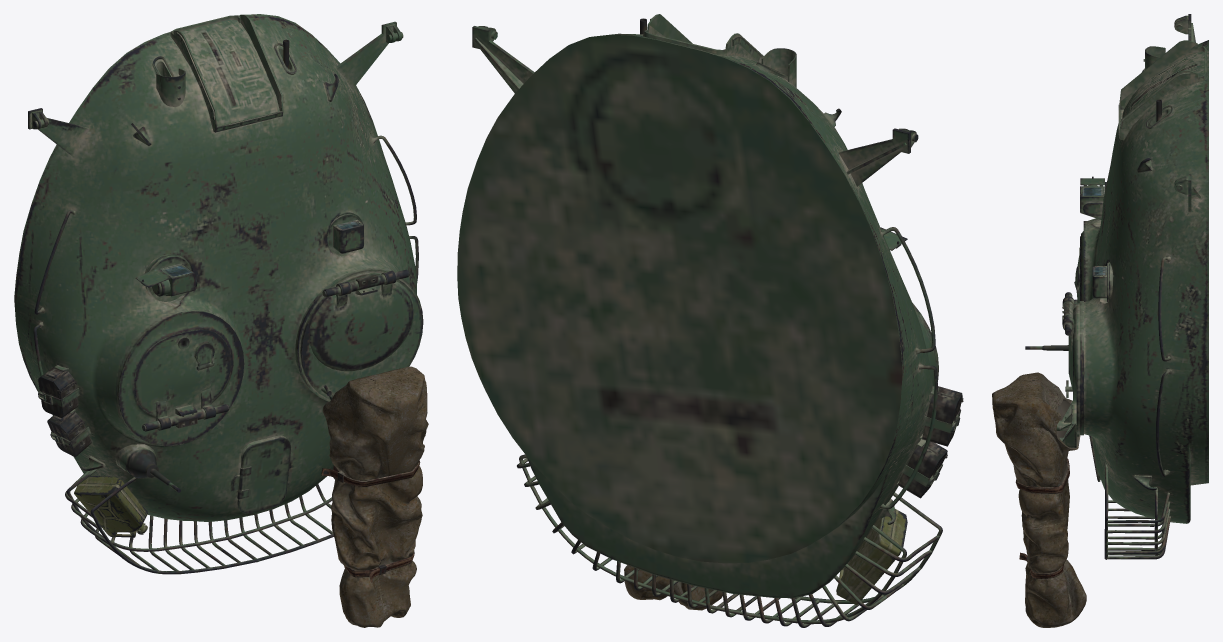
Rendered from Turret_01.glb.
3 renders of one model, left to right at view 1: azimuth 30°, elevation 25°; view 2: azimuth 150°, elevation 25°; view 3: azimuth 270°, elevation 25°, orthographic. The views are drawn at different scales.
Visible parts, largest first — view 1: set_0_group_0, set_0_group_1; view 2: set_0_group_0, set_0_group_1; view 3: set_0_group_0, set_0_group_1.
Boxes of the visible parts, x1=… form: set_0_group_0: x1=14, y1=14, x2=423, y2=574; set_0_group_1: x1=321, y1=366, x2=428, y2=627; set_0_group_0: x1=457, y1=14, x2=963, y2=627; set_0_group_1: x1=624, y1=565, x2=722, y2=610; set_0_group_0: x1=1025, y1=14, x2=1208, y2=559; set_0_group_1: x1=992, y1=372, x2=1086, y2=627.
Bounding box in the file's own units: 2.86 × 3.95 × 1.49.
2 materials, 2 textured.
